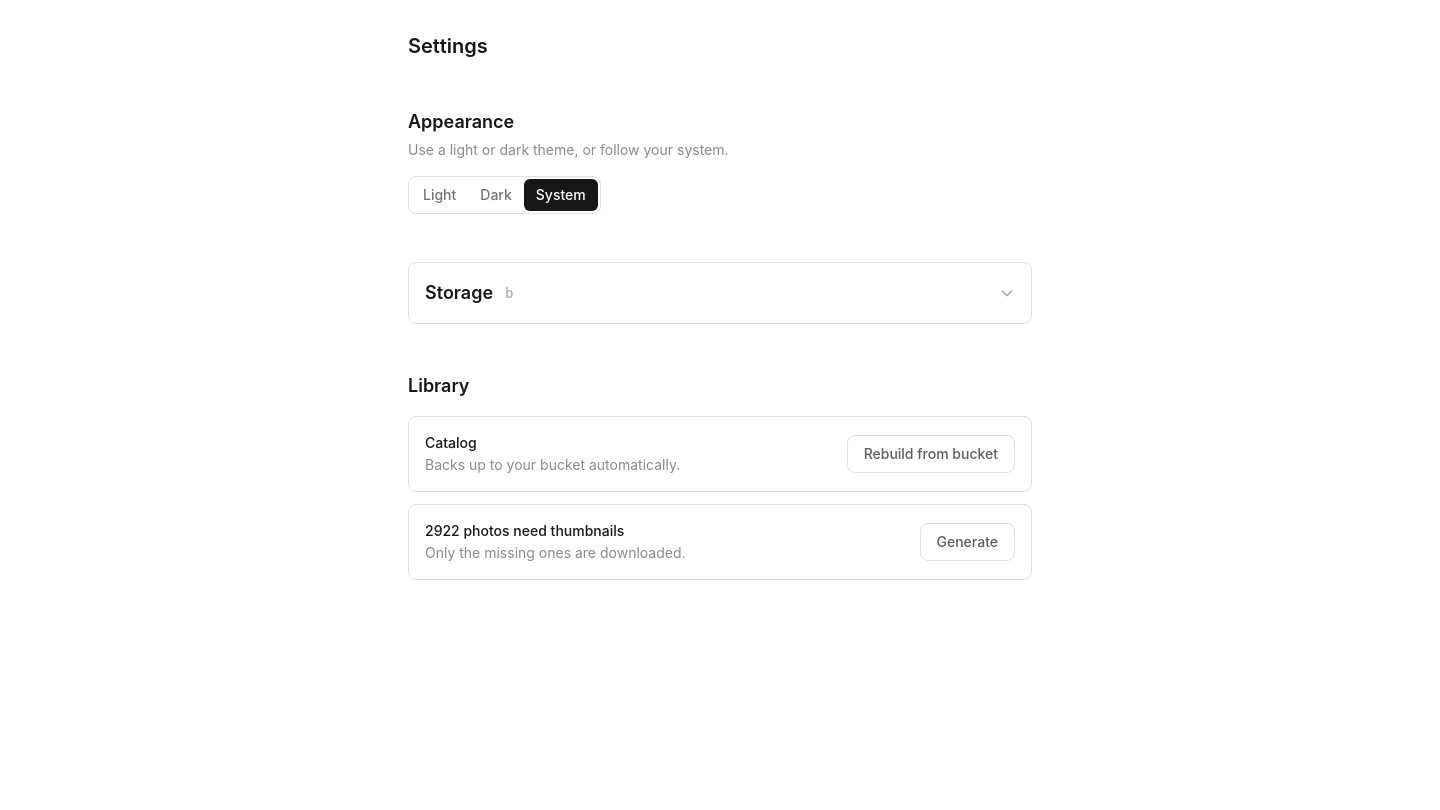
Test case: Settings library refresh › shows listing progress and hides the stale pending count while rebuilding
Expected: the heading "Library" is shown, [408, 375, 470, 396]
Expected: the text "2922 photos need thumbnails" is shown, [425, 522, 624, 539]
Click the button "Rebuild from bucket".
click(931, 454)  # box [847, 435, 1015, 473]
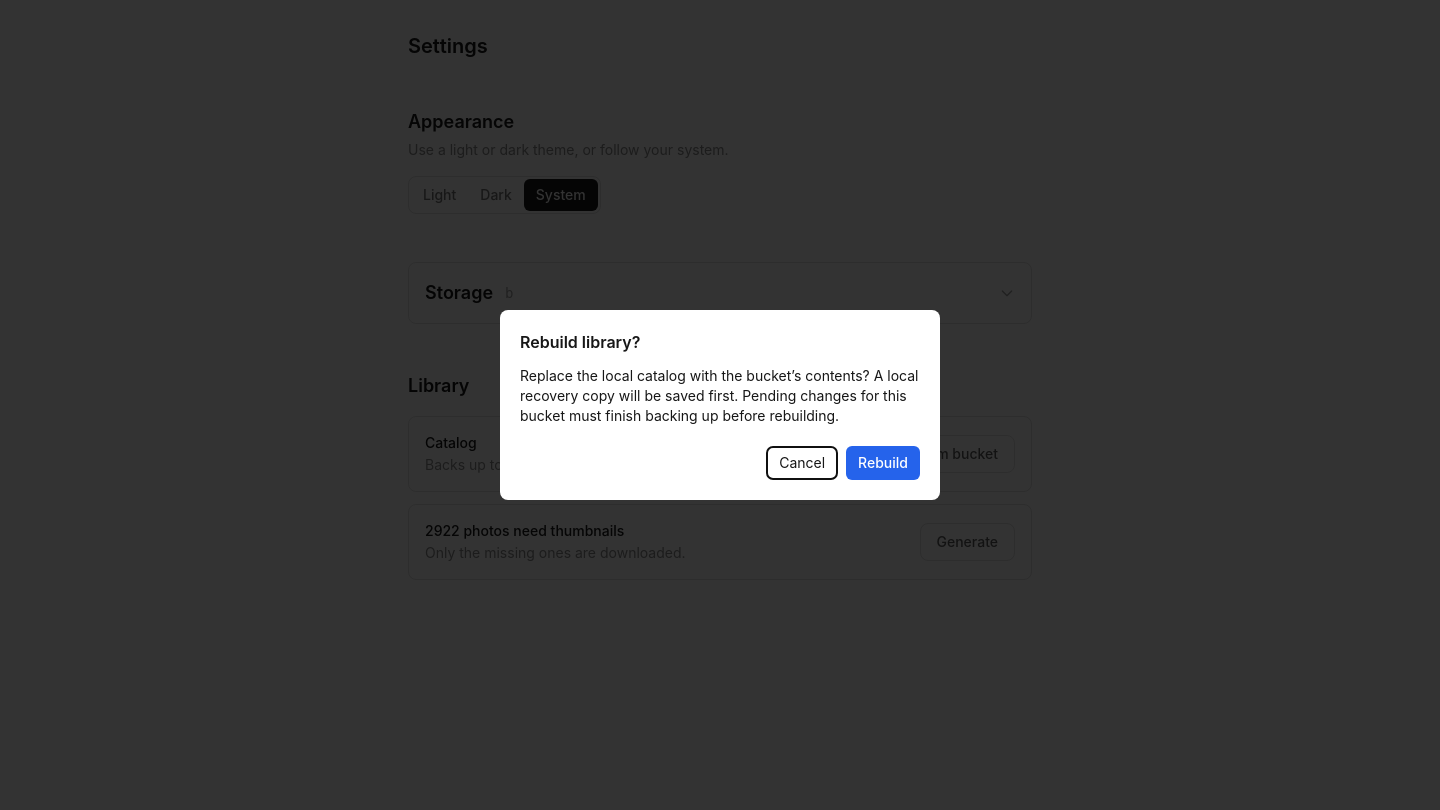
Click the button "Rebuild".
click(883, 463)  # box [846, 446, 920, 480]
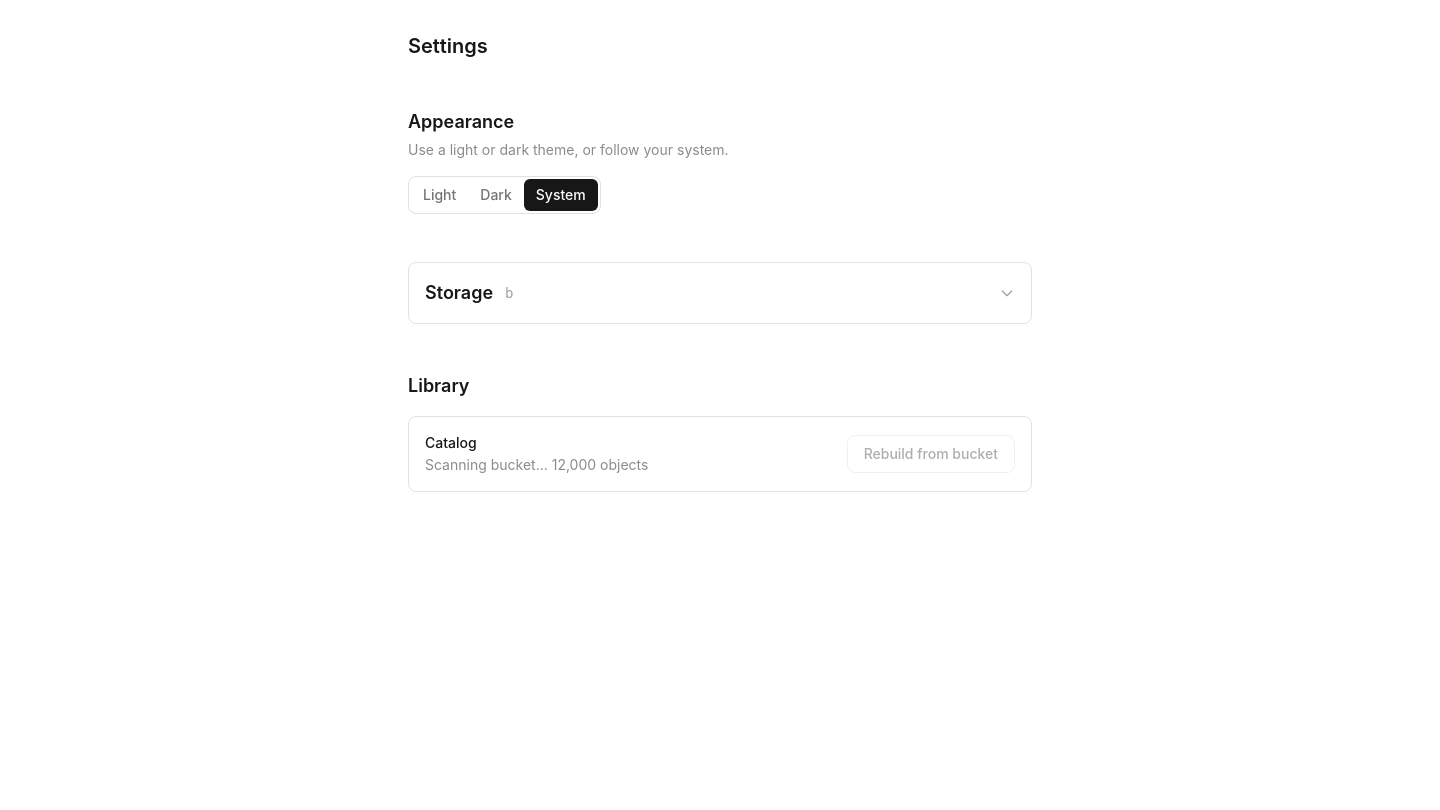
Expected: the text "2922 photos need thumbnails" is gone
Expected: the message reads "Scanning bucket… 12,000 objects", [425, 456, 648, 473]
